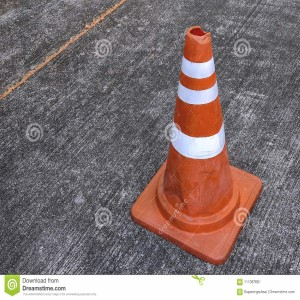traffic cone: (130, 26, 263, 265)
